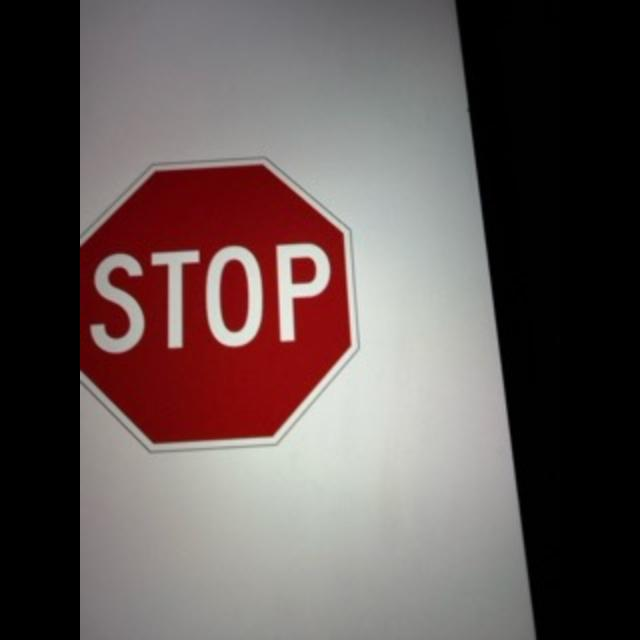STOP: (80, 147, 358, 450)
